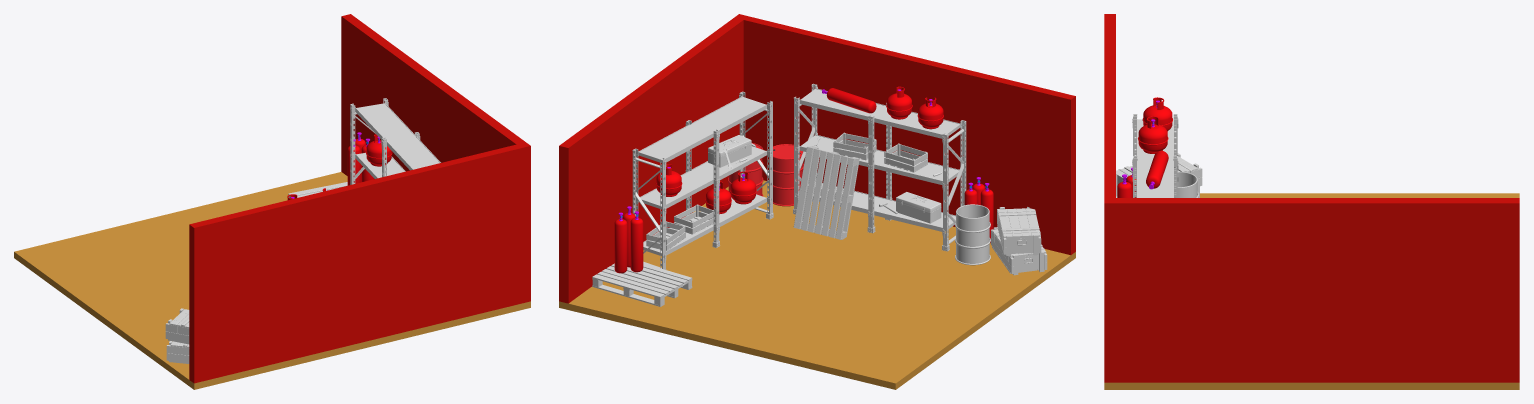
File: Warehouse_showcase_sketchfab.fbx
3 renders of one model, left to right at view 1: azimuth 30°, elevation 25°; view 2: azimuth 150°, elevation 25°; view 3: azimuth 270°, elevation 25°, orthographic. The views are drawn at different scales.
Visible parts, largest first — view 1: room, shelf.001, warehouse_box2.001, warehouse_box2, small gas tank.003; view 2: room, shelf.001, shelf.002, pallet.001, pallet, metal barrel.002, warehouse_box2.001, metal barrel.001, warehouse_box2, toolbox, warehouse_box.003, toolbox.001 (+12 smaller); view 3: room, shelf.002, small gas tank.002, small gas tank.001, warehouse_box2.001, big gas tank.007, metal barrel.002.
Boxes of the visible parts, <box> form: room: <box>14,14,530,389</box>; shelf.001: <box>350,98,440,184</box>; warehouse_box2.001: <box>165,308,189,344</box>; warehouse_box2: <box>166,341,189,363</box>; small gas tank.003: <box>366,134,392,166</box>; room: <box>559,14,1075,389</box>; shelf.001: <box>632,91,773,269</box>; shelf.002: <box>793,83,966,251</box>; pallet.001: <box>793,146,859,239</box>; pallet: <box>592,263,692,306</box>; metal barrel.002: <box>955,204,990,265</box>; warehouse_box2.001: <box>997,207,1041,255</box>; metal barrel.001: <box>768,144,803,206</box>; warehouse_box2: <box>991,227,1047,275</box>; toolbox: <box>895,192,941,223</box>; warehouse_box.003: <box>884,143,927,172</box>; toolbox.001: <box>708,135,751,167</box>; room: <box>1104,14,1519,389</box>; shelf.002: <box>1132,114,1178,197</box>; small gas tank.002: <box>1138,116,1168,153</box>; small gas tank.001: <box>1142,97,1172,131</box>; warehouse_box2.001: <box>1116,153,1202,196</box>; big gas tank.007: <box>1146,150,1168,189</box>; metal barrel.002: <box>1174,171,1198,197</box>.
Bounding box in the file's own units: 655 × 301 × 607.
